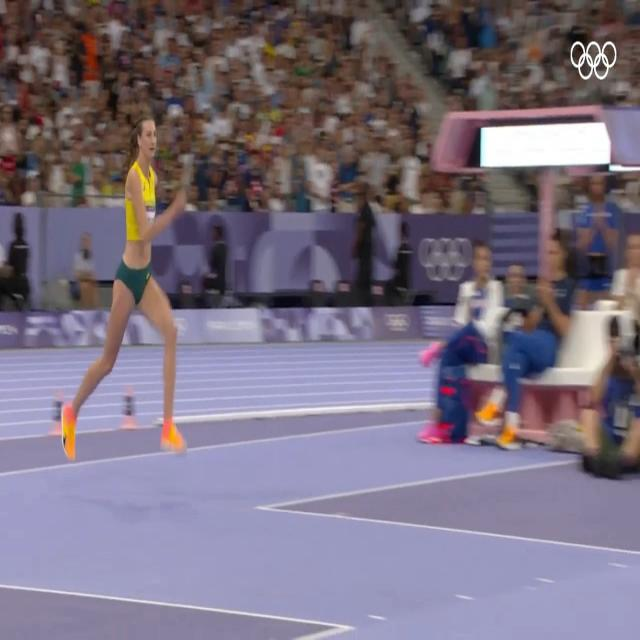run: (64, 110, 188, 460)
